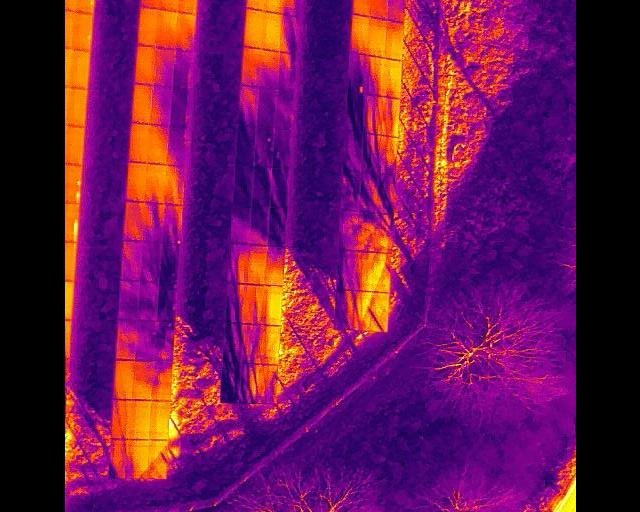Cell: (73, 12, 91, 50), (75, 0, 94, 12)
Cell-Multi: (64, 164, 80, 203)
No-Anomaly: (129, 122, 149, 164), (131, 83, 151, 125), (137, 8, 157, 48), (113, 360, 133, 399), (367, 18, 386, 57), (243, 9, 262, 48), (135, 46, 154, 85), (132, 399, 150, 440), (150, 400, 168, 439), (385, 21, 403, 59), (263, 13, 281, 51), (71, 49, 88, 88), (68, 88, 85, 126), (264, 286, 280, 326), (67, 126, 83, 165), (352, 0, 371, 15), (178, 0, 197, 15), (264, 0, 283, 13), (161, 0, 179, 12), (140, 0, 161, 9), (245, 0, 265, 9)
Shadowing: (371, 211, 394, 254), (164, 164, 187, 207), (355, 210, 377, 253), (337, 208, 359, 251), (237, 86, 259, 129), (368, 290, 390, 332), (255, 88, 277, 130), (169, 88, 192, 128), (359, 133, 380, 176), (358, 172, 379, 215), (376, 134, 397, 176), (351, 290, 372, 332), (339, 250, 360, 292), (125, 161, 146, 203), (153, 47, 174, 89), (121, 240, 142, 281), (118, 280, 139, 321), (336, 290, 357, 331), (271, 128, 292, 169), (252, 127, 273, 168), (235, 127, 256, 168), (224, 323, 245, 364), (162, 203, 183, 244), (241, 324, 262, 364), (233, 166, 253, 208), (167, 127, 188, 167), (155, 10, 176, 50), (175, 13, 197, 51), (116, 319, 136, 360), (269, 168, 289, 209), (251, 167, 271, 208), (247, 244, 267, 285), (240, 363, 260, 404), (227, 283, 247, 324), (136, 279, 156, 320), (249, 207, 270, 246), (349, 14, 369, 54), (123, 201, 143, 241), (274, 89, 294, 129), (268, 207, 288, 247), (143, 202, 163, 242), (141, 242, 161, 282), (376, 174, 395, 216), (372, 251, 391, 293), (149, 124, 168, 166), (136, 320, 155, 362), (356, 249, 374, 293), (277, 52, 297, 91), (172, 50, 192, 89), (160, 244, 180, 283), (113, 399, 132, 440), (229, 243, 248, 284), (145, 163, 164, 204), (157, 281, 176, 321), (152, 84, 170, 126), (264, 246, 283, 285), (231, 206, 250, 245), (381, 97, 399, 138), (246, 284, 264, 325), (154, 322, 172, 363), (221, 364, 240, 402), (364, 95, 382, 135), (113, 440, 131, 480), (260, 50, 278, 90), (242, 47, 260, 87), (148, 440, 166, 480), (280, 16, 299, 53), (152, 361, 170, 400), (367, 56, 384, 96), (260, 325, 277, 365), (130, 440, 147, 480), (259, 365, 276, 404), (134, 361, 151, 400), (383, 58, 399, 97), (386, 0, 405, 22), (368, 0, 389, 19), (281, 0, 301, 16)
